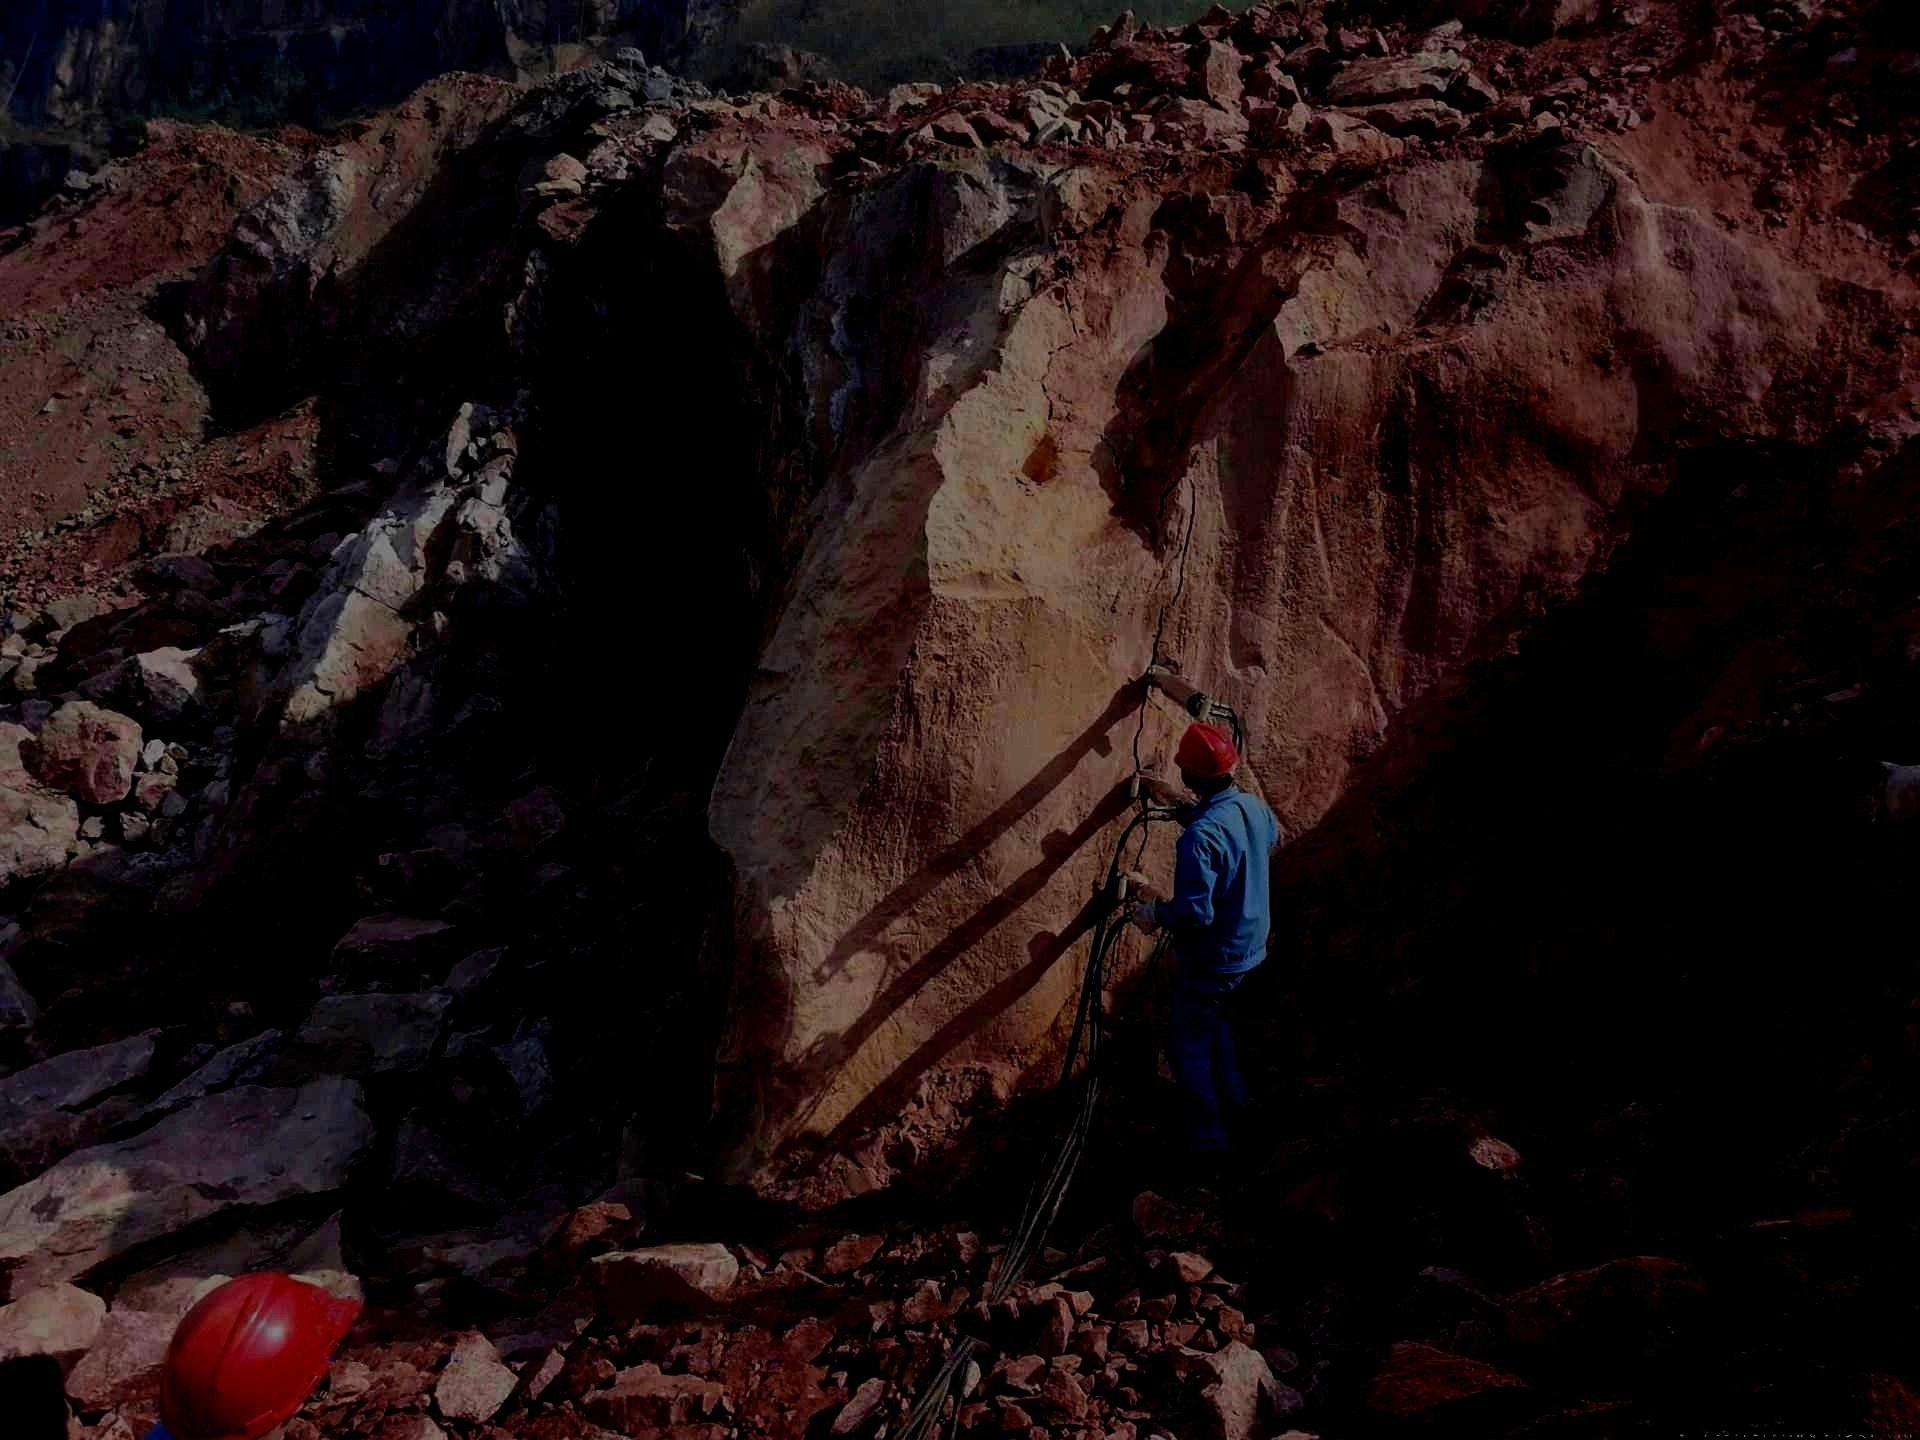helmet: (159, 1268, 364, 1440), (1173, 720, 1240, 799)
